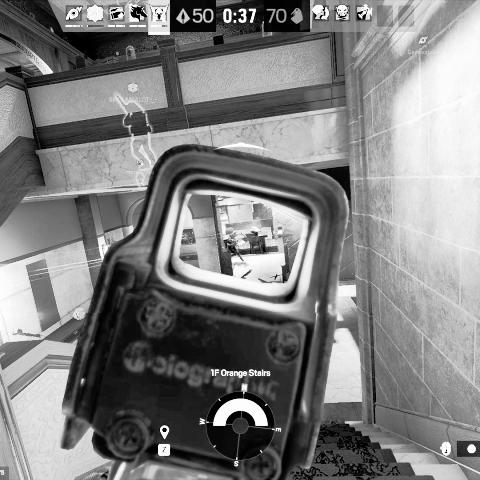Character: (225, 230, 245, 262)
Friend_label: (107, 82, 159, 104), (406, 33, 440, 57), (126, 159, 154, 175)
Head: (232, 230, 237, 236)
